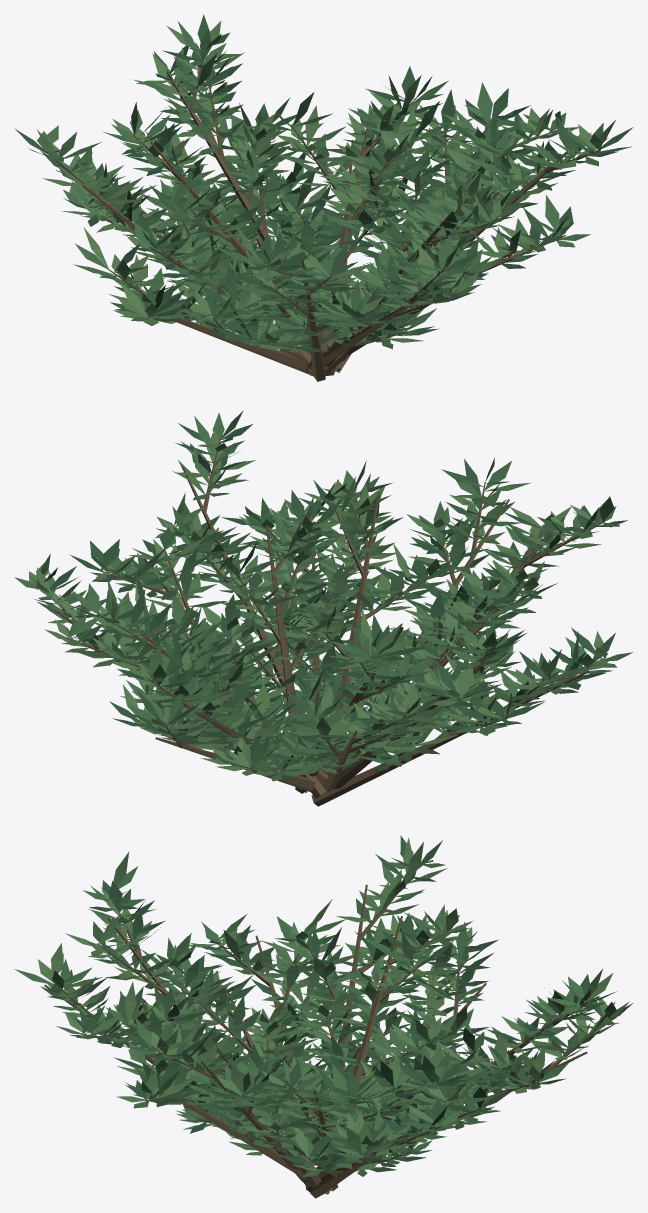
The model's file is bush_20.glb.
The picture shows the model from 3 angles, top to bottom: view 1: azimuth 30°, elevation 25°; view 2: azimuth 150°, elevation 25°; view 3: azimuth 270°, elevation 25°; orthographic projection. The views are drawn at different scales.
Visible parts, largest first — view 1: bush_20; view 2: bush_20; view 3: bush_20.
Part boxes in pixels (x1,y1,x2,y2): bush_20: (14,14,633,381); bush_20: (14,410,632,806); bush_20: (14,835,632,1198).
Size of the model in its own units: 2.17 by 1.08 by 2.36.
